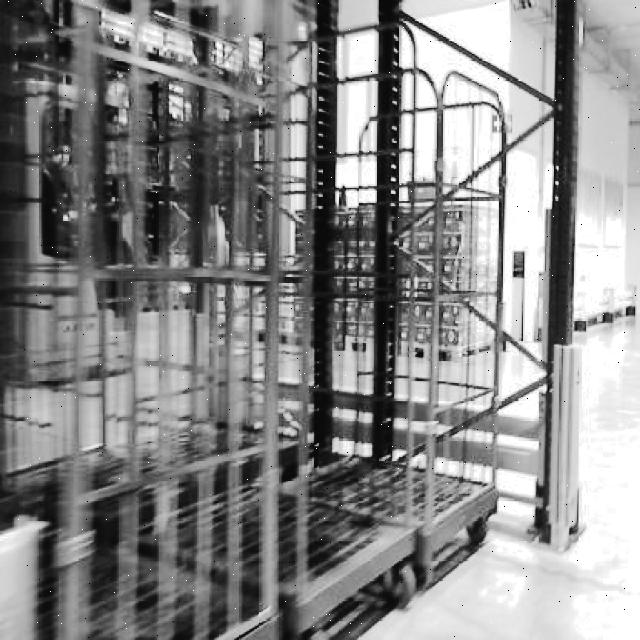ground: (2, 306, 640, 638)
pallet: (2, 0, 580, 638), (132, 482, 420, 638), (2, 418, 303, 543), (246, 375, 546, 478), (283, 451, 502, 591), (537, 342, 588, 552), (535, 274, 640, 334), (2, 515, 51, 638)
